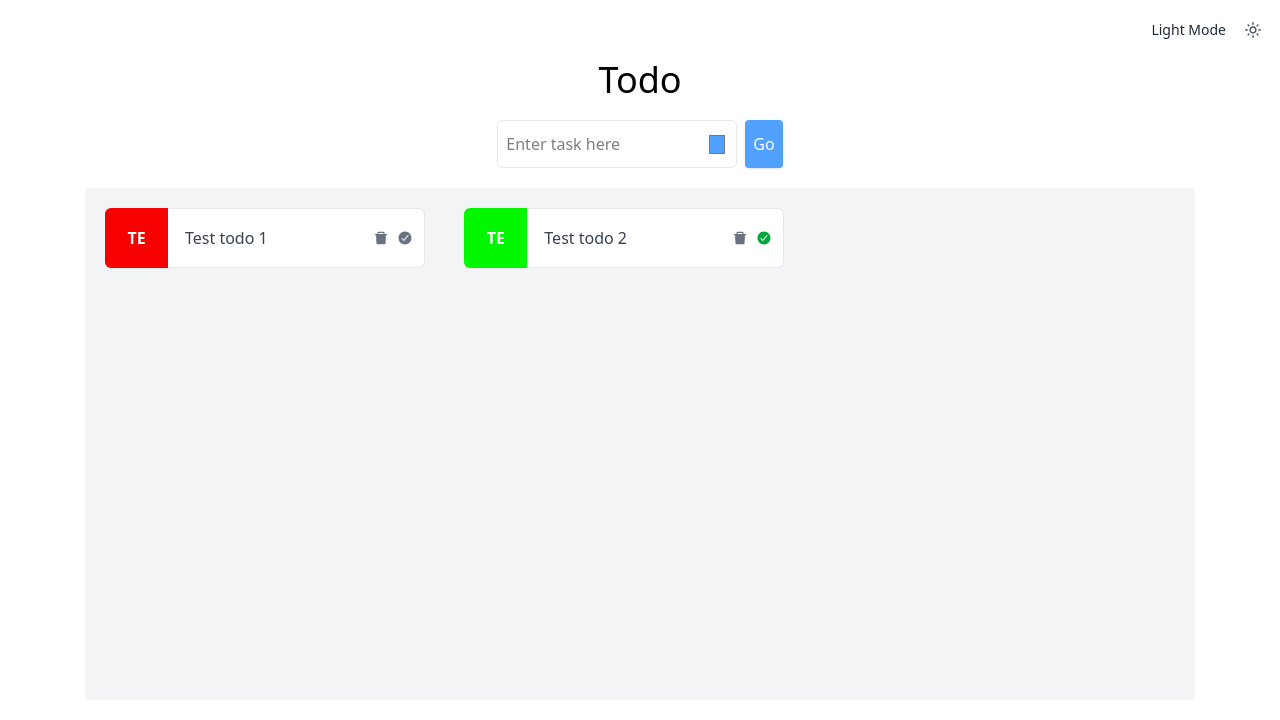
Scenario: App Component › toggles dark mode
# Click to toggle to dark mode
Click the button "Light Mode" at point(1206, 30), box x1=1151 y1=20 x2=1260 y2=40
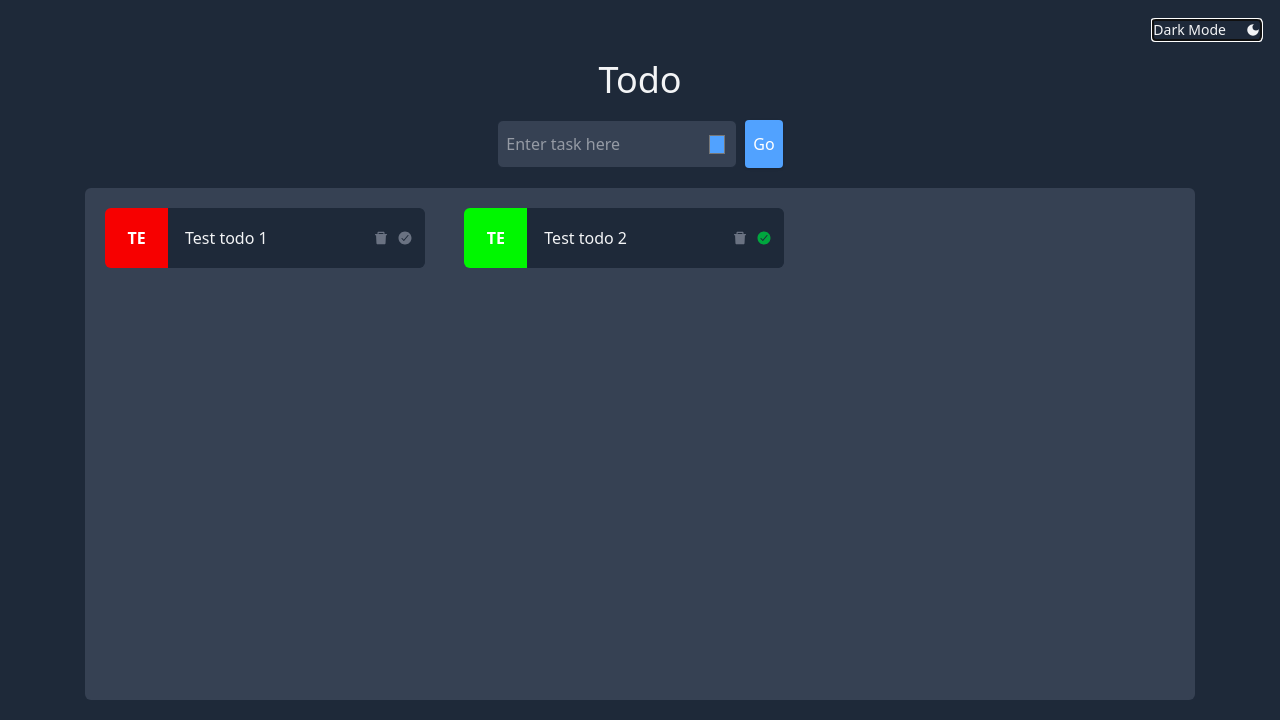
Now the button "Dark Mode" is shown, box x1=1153 y1=20 x2=1260 y2=40
